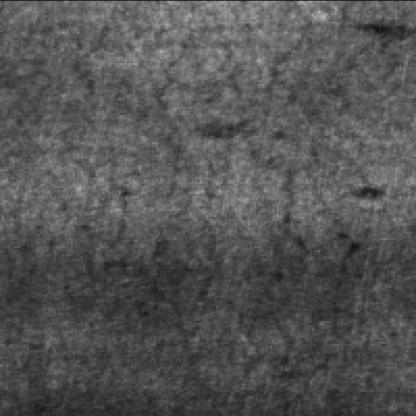crazing: (79, 38, 362, 366)
